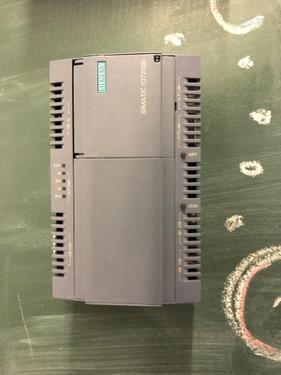device: (49, 52, 200, 306)
